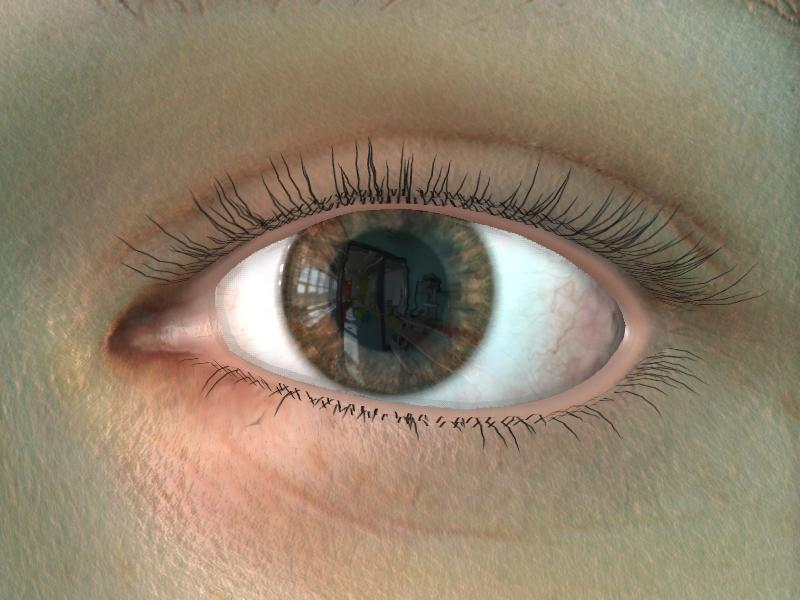eye: (281, 208, 493, 394)
